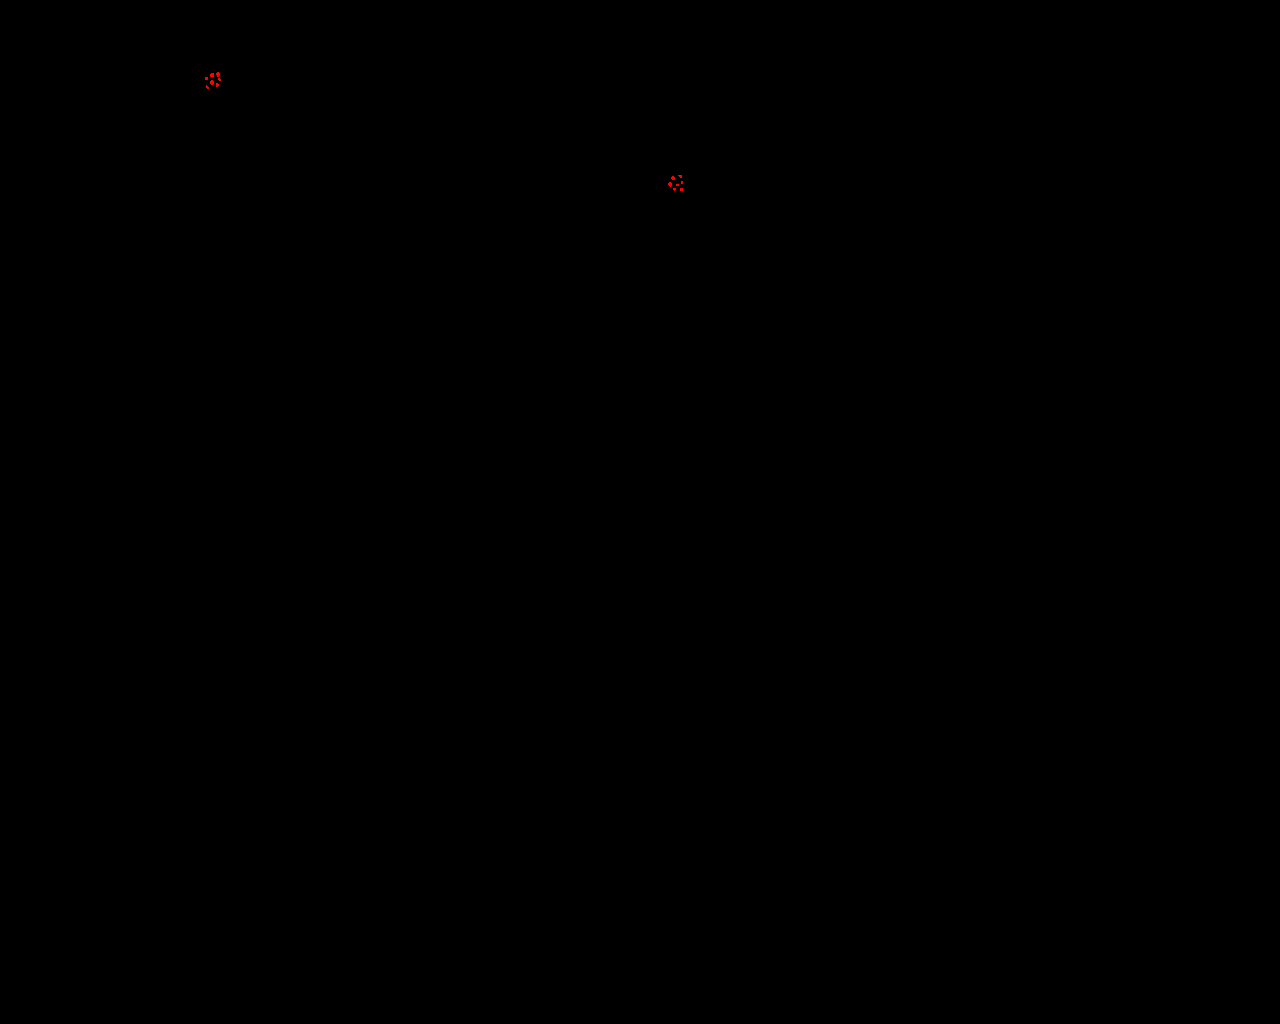Target: (216, 72, 220, 77), (668, 182, 672, 187), (210, 73, 214, 77), (210, 80, 214, 85), (671, 176, 675, 180), (216, 83, 219, 87), (206, 85, 209, 89), (678, 174, 682, 178), (205, 77, 208, 80), (218, 78, 222, 82), (673, 188, 676, 191), (680, 188, 683, 191), (681, 181, 683, 184), (676, 184, 679, 186)
